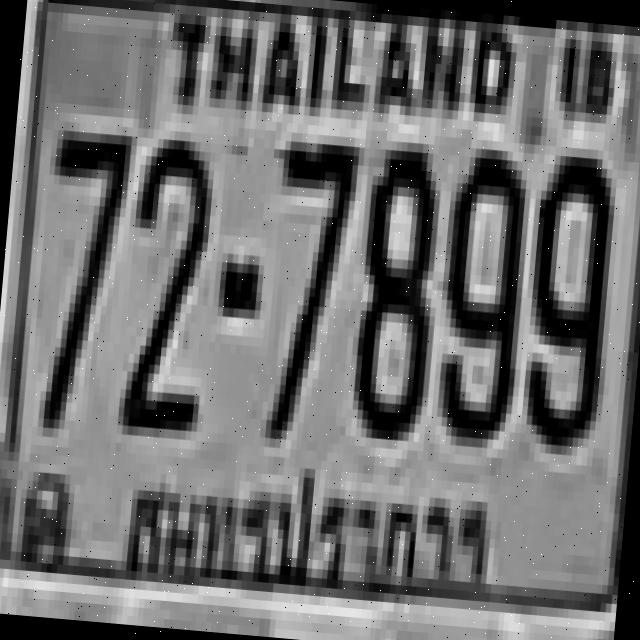2: (114, 128, 214, 431)
7: (27, 125, 132, 428), (254, 136, 354, 438), (258, 131, 355, 398)
8: (346, 139, 440, 432)
9: (429, 142, 529, 445), (514, 149, 613, 443)
SamutPrakan: (120, 454, 503, 604)
